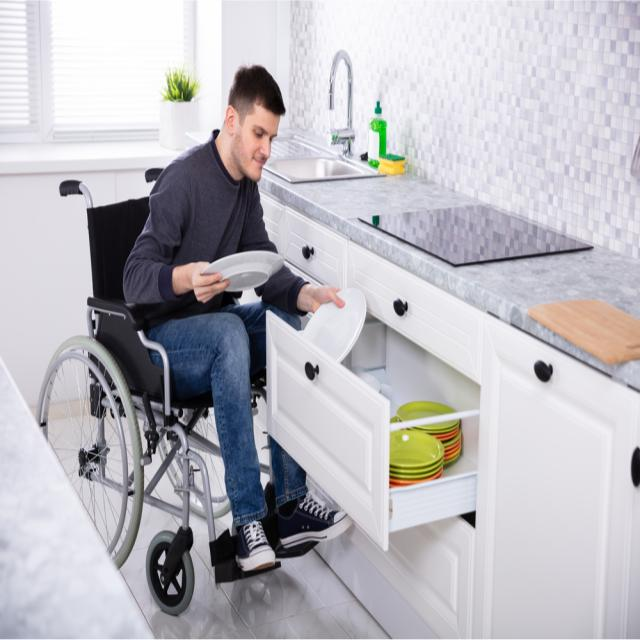wheelchairs: (31, 165, 342, 622)
